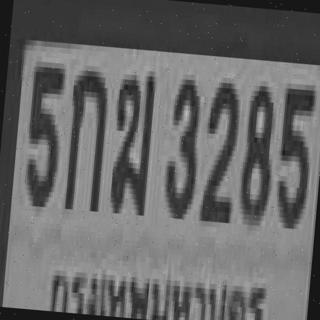A01: (61, 62, 108, 209)
A06: (106, 66, 156, 213)
N02: (198, 76, 240, 218)
N03: (161, 73, 202, 214)
N05: (272, 77, 314, 224), (21, 61, 64, 202)
N08: (236, 80, 277, 221)
P04: (46, 261, 270, 320)
